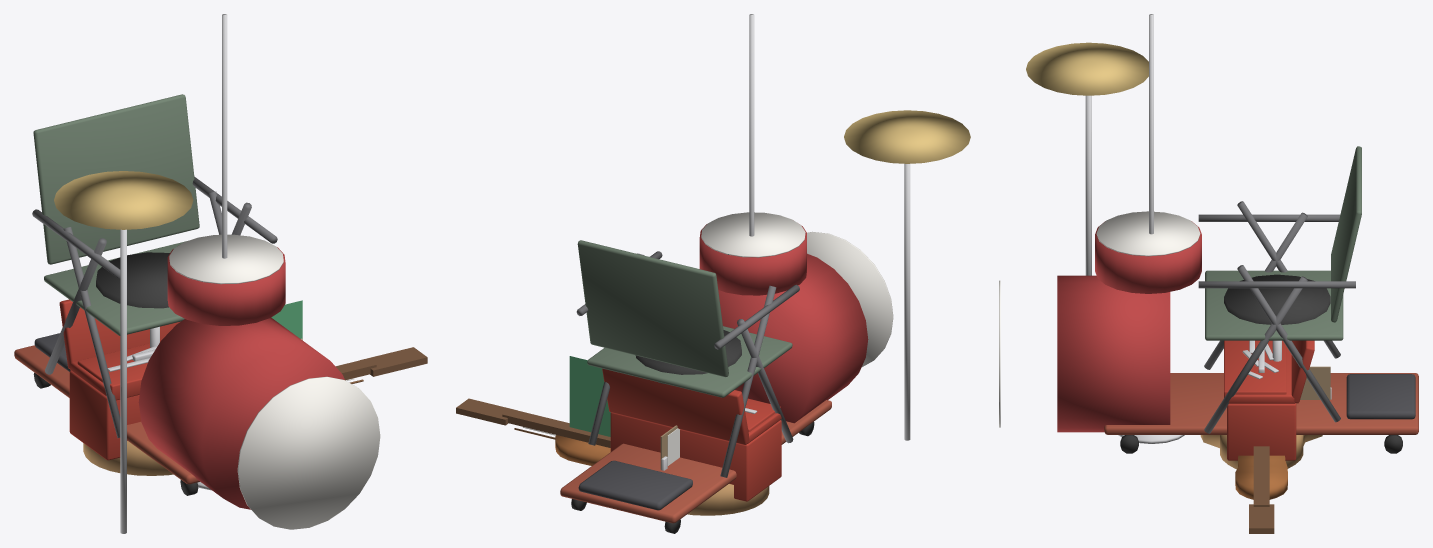
File: people_props.glb
3 views of the same model, side by side, from view 1: azimuth 30°, elevation 25°; view 2: azimuth 150°, elevation 25°; view 3: azimuth 270°, elevation 25° (orthographic). The views are drawn at different scales.
Visible parts, largest first — view 1: prop_drum_kit, prop_camp_chair, prop_toolbox_open, prop_toolbox_closed, prop_creeper, prop_guitar, prop_mic_stand, prop_flag; view 2: prop_drum_kit, prop_camp_chair, prop_creeper, prop_toolbox_open, prop_toolbox_closed, prop_guitar, prop_flag, prop_mic_stand, prop_fiddle, prop_clipboard; view 3: prop_drum_kit, prop_camp_chair, prop_creeper, prop_toolbox_closed, prop_toolbox_open, prop_guitar, prop_fiddle, prop_mic_stand, prop_clipboard.
Boxes of the visible parts, x1,y1,x2,y2 form: prop_drum_kit: [54, 171, 380, 533]; prop_camp_chair: [32, 94, 277, 438]; prop_toolbox_open: [59, 299, 180, 400]; prop_toolbox_closed: [69, 349, 155, 460]; prop_creeper: [14, 333, 199, 495]; prop_guitar: [83, 347, 427, 475]; prop_mic_stand: [197, 14, 227, 490]; prop_flag: [271, 300, 302, 340]; prop_drum_kit: [635, 110, 970, 440]; prop_camp_chair: [576, 240, 799, 477]; prop_creeper: [560, 400, 831, 533]; prop_toolbox_open: [602, 368, 780, 444]; prop_toolbox_closed: [610, 412, 781, 501]; prop_guitar: [456, 398, 769, 515]; prop_flag: [569, 356, 610, 436]; prop_mic_stand: [749, 14, 754, 236]; prop_fiddle: [555, 435, 610, 465]; prop_clipboard: [660, 425, 679, 470]; prop_drum_kit: [999, 42, 1330, 432]; prop_camp_chair: [1198, 146, 1361, 433]; prop_creeper: [1104, 373, 1418, 453]; prop_toolbox_closed: [1227, 347, 1296, 460]; prop_toolbox_open: [1224, 340, 1314, 403]; prop_guitar: [1200, 435, 1322, 533]; prop_fiddle: [1235, 455, 1287, 499]; prop_mic_stand: [1118, 14, 1184, 443]; prop_clipboard: [1300, 366, 1331, 399].
Bounding box in the file's own units: 1.5 × 1.5 × 1.33.
